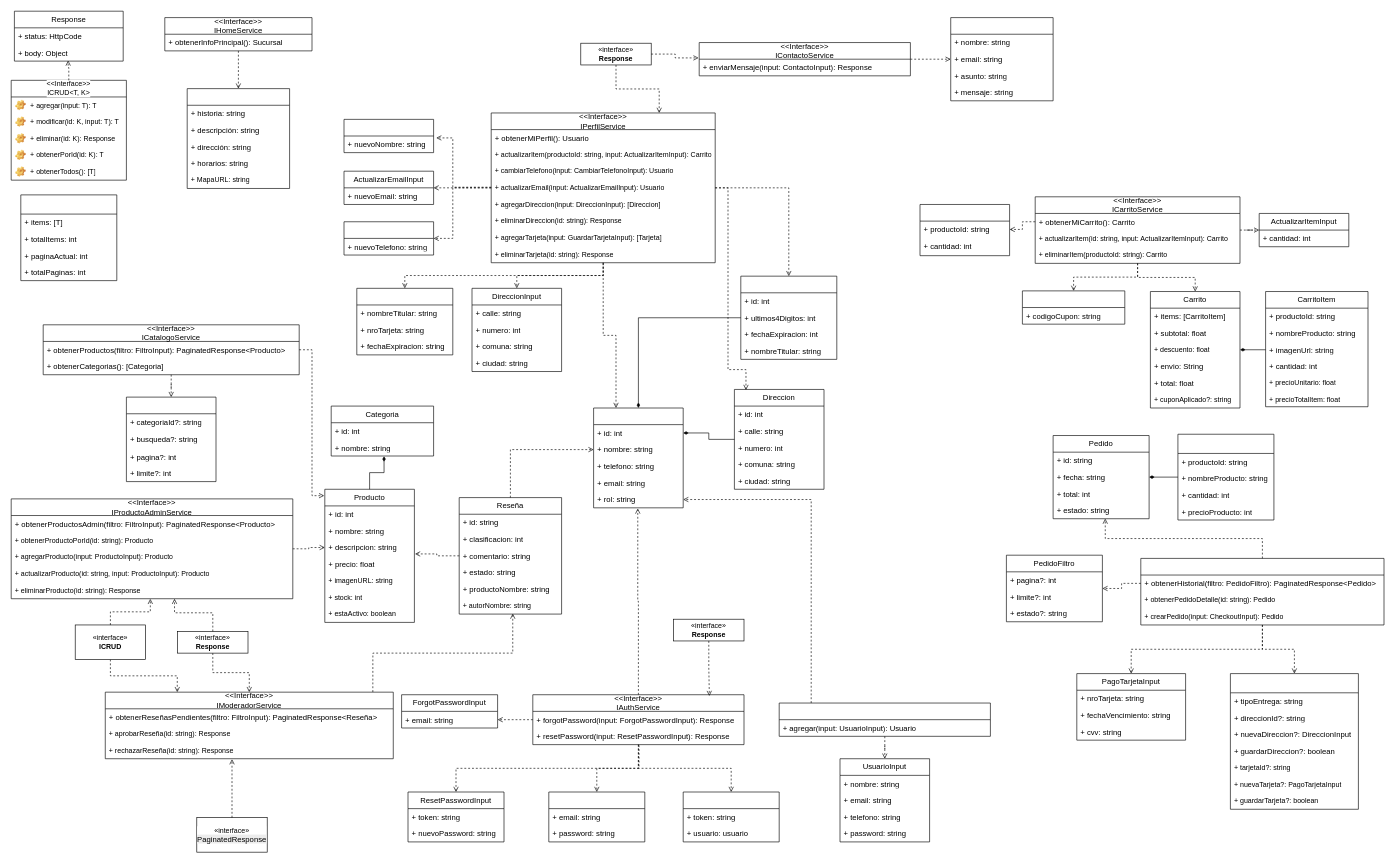
The diagram is 1395 pixels wide and 863 high, and some of its shapes have lost their labels. The shapes that lost their labels are listed below. From the top down, each one's box as (x1, y1, x2, y2) in pixels, then its label:
(950, 17, 1053, 101): ContactoInput
(187, 88, 290, 188): Home
(343, 119, 434, 153): CambiarNombreInput
(20, 194, 117, 281): PaginatedResponse<T>
(343, 221, 434, 255): CambiarTelefonoInput
(919, 204, 1010, 256): ItemInput
(356, 288, 453, 355): GuardarTarjetaInput
(740, 276, 837, 359): Tarjeta
(1022, 290, 1125, 324): CuponInput
(126, 396, 216, 482): FiltroInput
(593, 407, 683, 508): Usuario
(1177, 434, 1274, 520): ItemPedido
(1140, 558, 1384, 625): <<Interface>> IPedidoService
(779, 702, 990, 736): <<Interface>> IUsuarioService
(1230, 673, 1358, 809): CheckoutInput
(548, 791, 645, 842): LoginInput
(683, 791, 779, 842): AuthResponse
